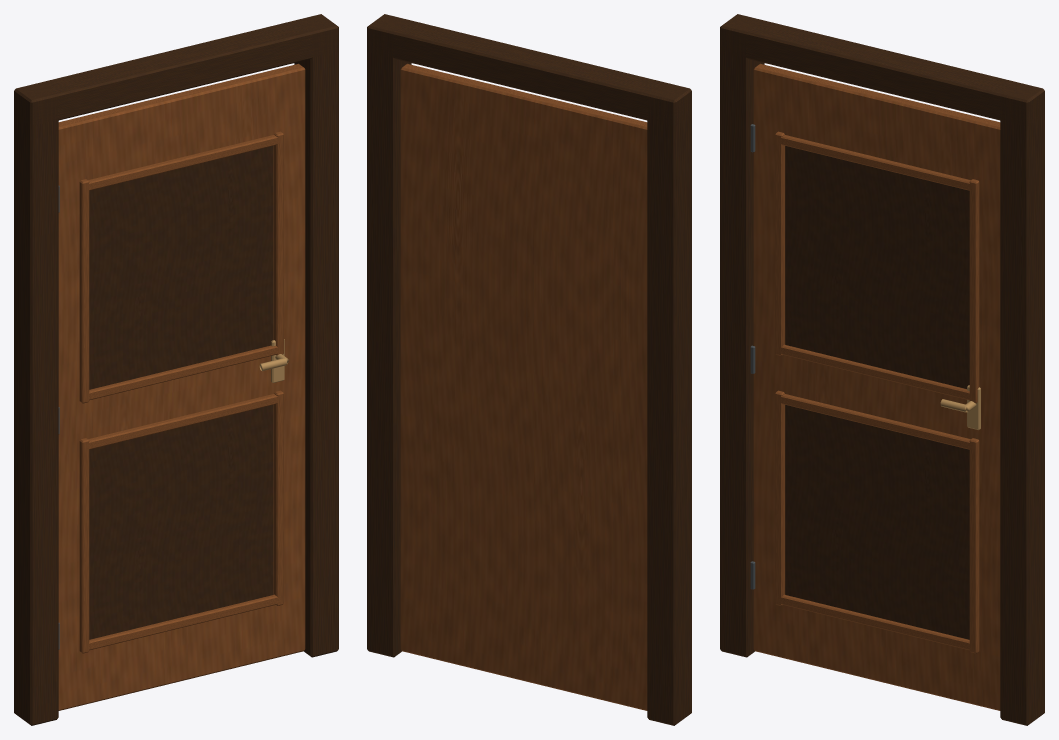
File: door.glb
3 views of the same model, side by side, from view 1: azimuth 30°, elevation 25°; view 2: azimuth 150°, elevation 25°; view 3: azimuth 330°, elevation 25° (orthographic).
Parts seen in each view (by area): view 1: door; view 2: door; view 3: door.
Boxes of the visible parts, x1,y1,x2,y2 form: door: (14, 14, 338, 725); door: (367, 14, 691, 725); door: (720, 14, 1044, 725).
Bounding box in the file's own units: 1.08 × 2.09 × 0.14.
4 materials, 2 textured.
